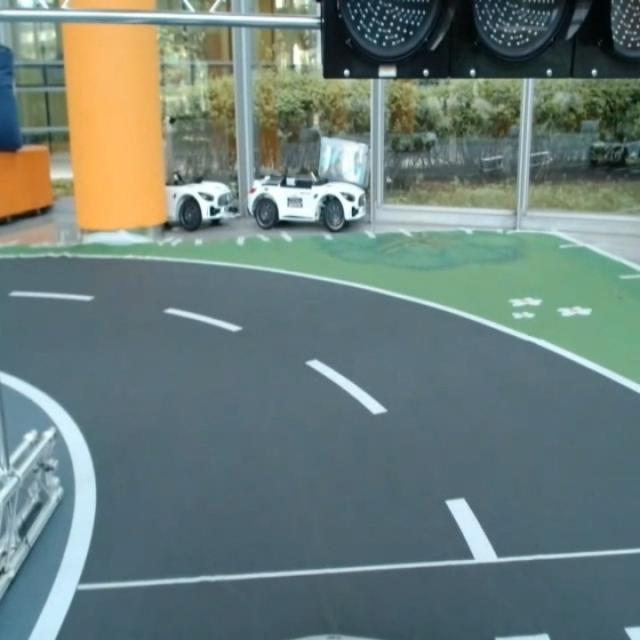traffic-light: (318, 0, 640, 81)
